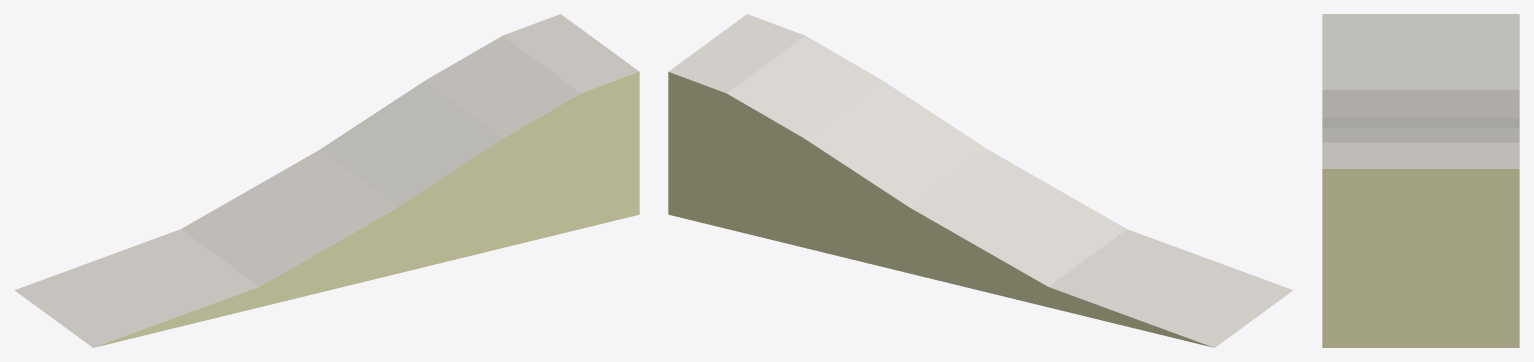
Rendered from Floor_Incline_1x3.glb.
The picture shows the model from 3 angles, left to right: view 1: azimuth 30°, elevation 25°; view 2: azimuth 150°, elevation 25°; view 3: azimuth 270°, elevation 25°; orthographic projection. The views are drawn at different scales.
Parts seen in each view (by area): view 1: Floor_Incline_1x3; view 2: Floor_Incline_1x3; view 3: Floor_Incline_1x3.
Boxes of the visible parts, bbox=[...] form: Floor_Incline_1x3: bbox=[14, 14, 639, 347]; Floor_Incline_1x3: bbox=[668, 14, 1293, 347]; Floor_Incline_1x3: bbox=[1322, 14, 1519, 347].
Size of the model in its own units: 400 by 100 by 100.
